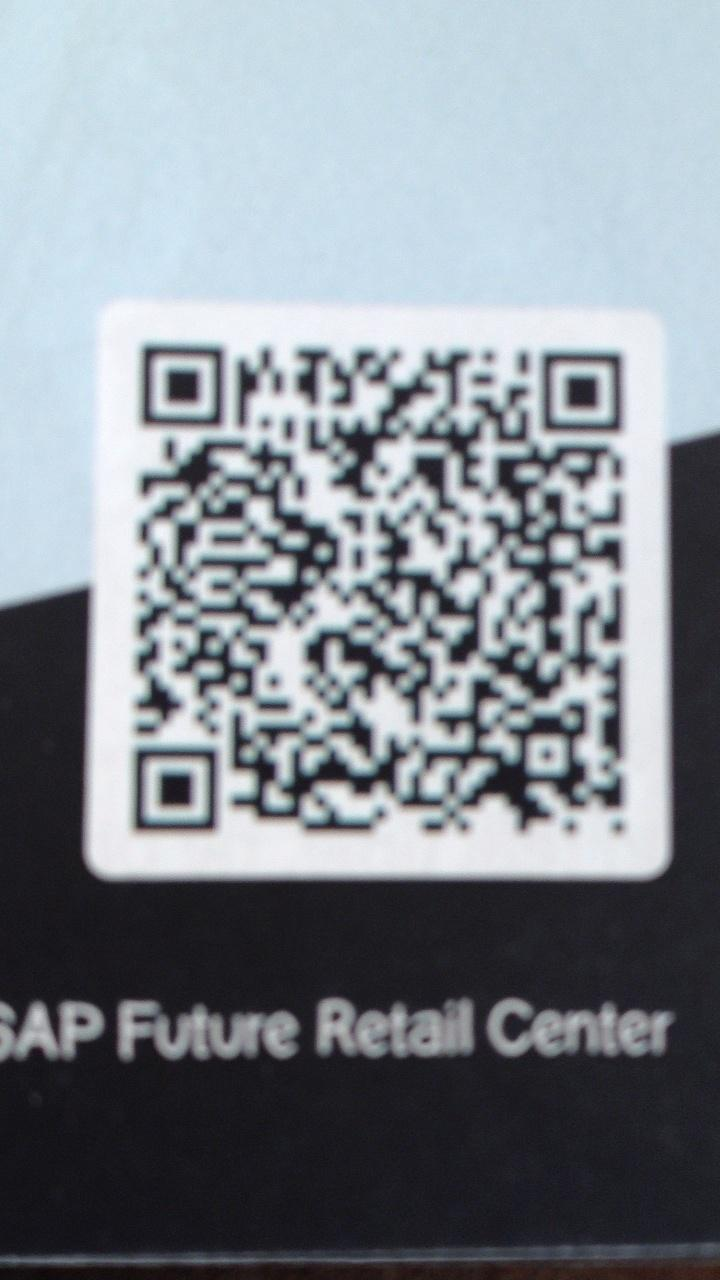Finder pattern: (127, 738, 224, 843), (131, 335, 235, 432), (533, 342, 631, 439)
